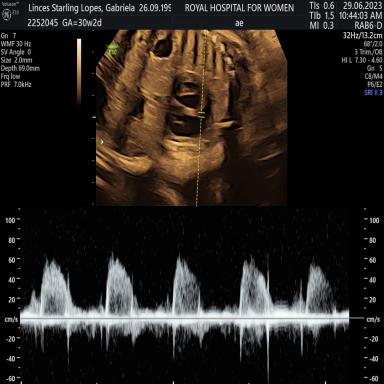Ultrasound-Waves: (24, 211, 349, 384)
